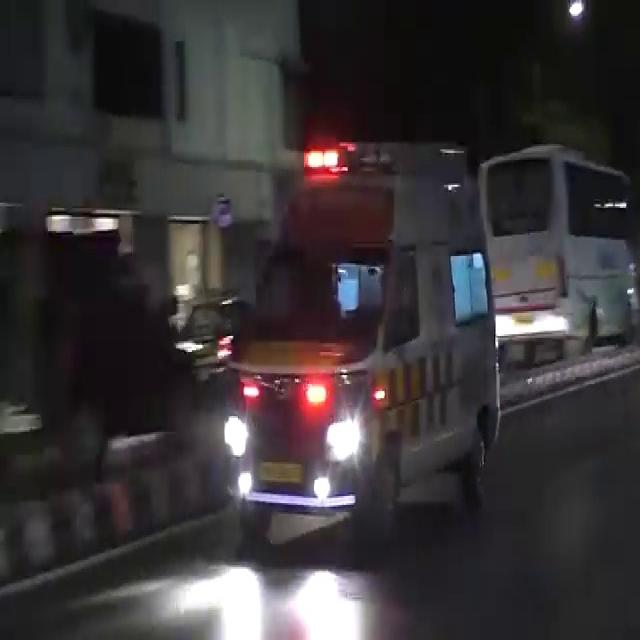ambulance: (219, 145, 520, 510)
